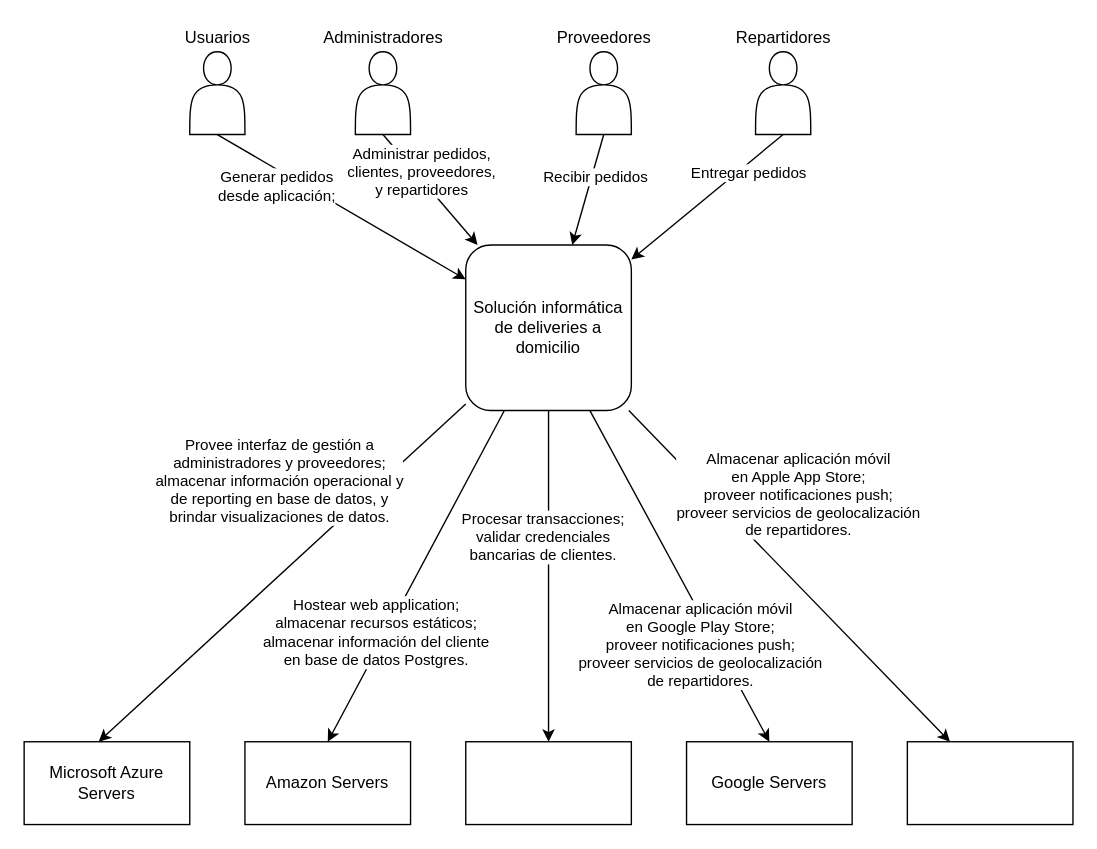
This 1097x849 diagram has some shape labels left out. Each missing label, with the centre of its shape:
Apple Servers: pixel 989 782
Transbank: pixel 547 782
